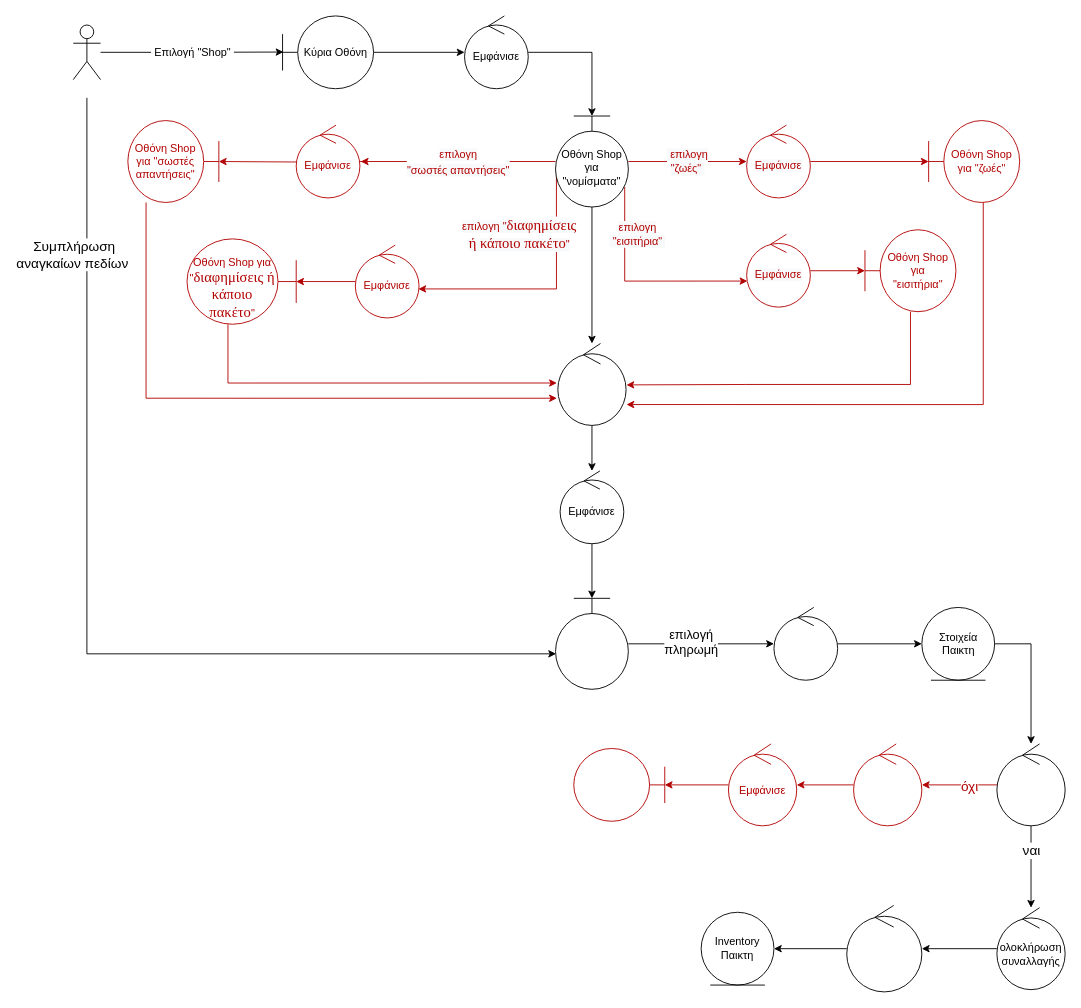
Image size: 1081x1008. Some labels were removed from this diagram. Here are the shapes that lost their labels. From the top down, the centre of each, then its label:
point 86,52: ΠΑΙΚΤΗΣ
point 591,384: Επιλογή ποσού προιόντος
point 591,643: Φόρμα στοιχείων πληρωμής
point 805,643: Έλεγχος στοιχείων πληρωμής
point 619,784: Μήνυμα Απόρριψης
point 887,784: Ακύρωση συναλλαγής
point 1030,784: Είναι σωστά τα στοιχεία πληρωμής?
point 884,948: εισαγωγή προιόντος στο λογαριασμο του παίκτη
